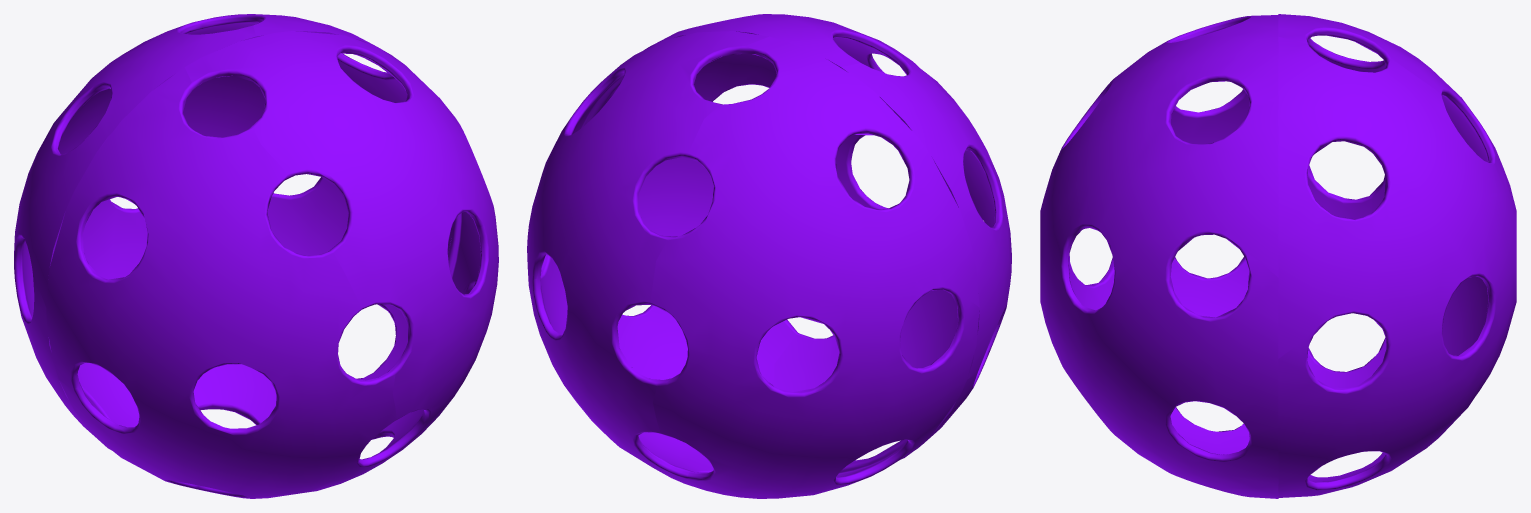
The model's file is decode-artifact-purple.glb.
3 renders of one model, left to right at view 1: azimuth 30°, elevation 25°; view 2: azimuth 150°, elevation 25°; view 3: azimuth 270°, elevation 25°, orthographic.
Size of the model in its own units: 0.127 by 0.127 by 0.1247.
